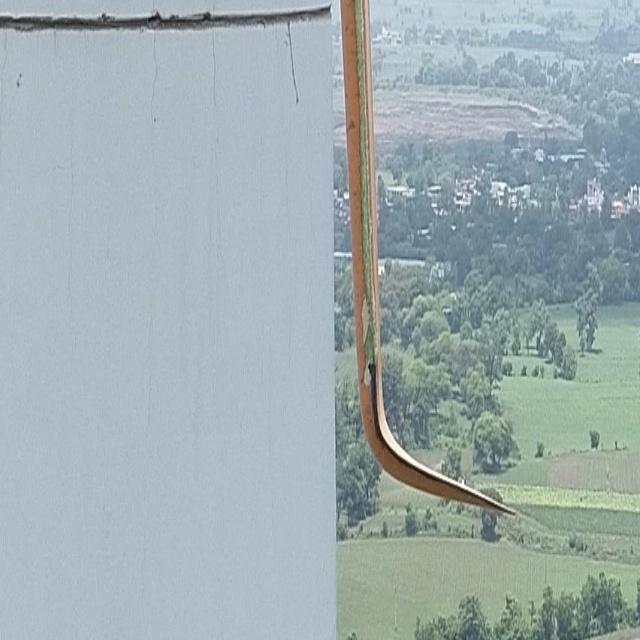EROSION: (348, 60, 388, 351), (358, 351, 442, 481)
